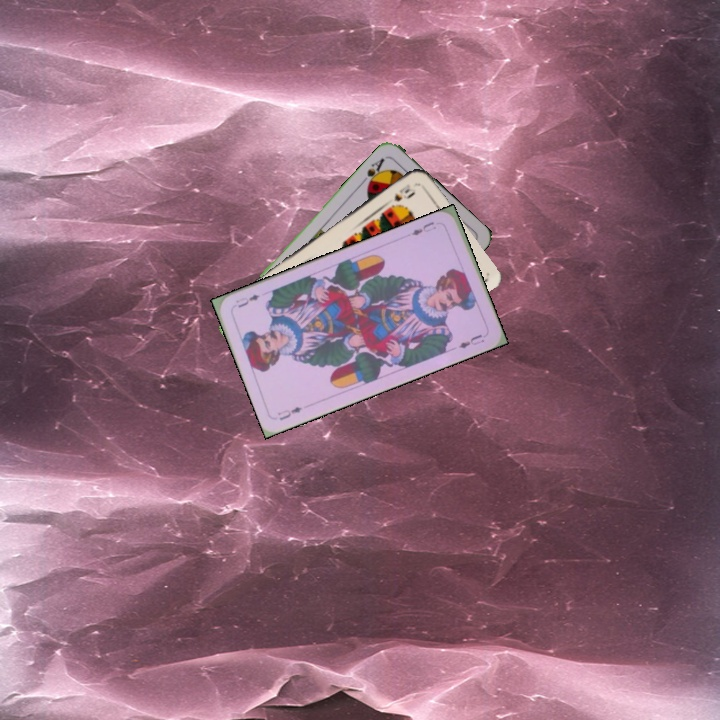EU: (407, 217, 439, 238), (273, 403, 304, 423)
S10: (390, 180, 413, 204)
SA: (357, 154, 387, 190)
